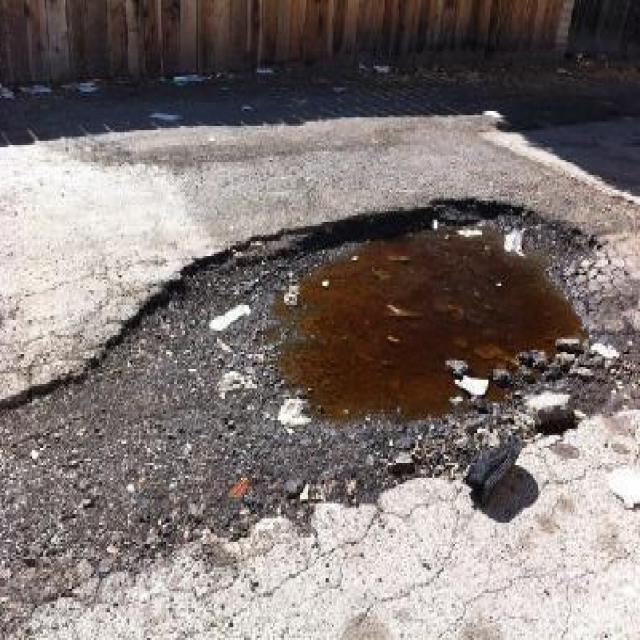pothole: (0, 182, 640, 638)
